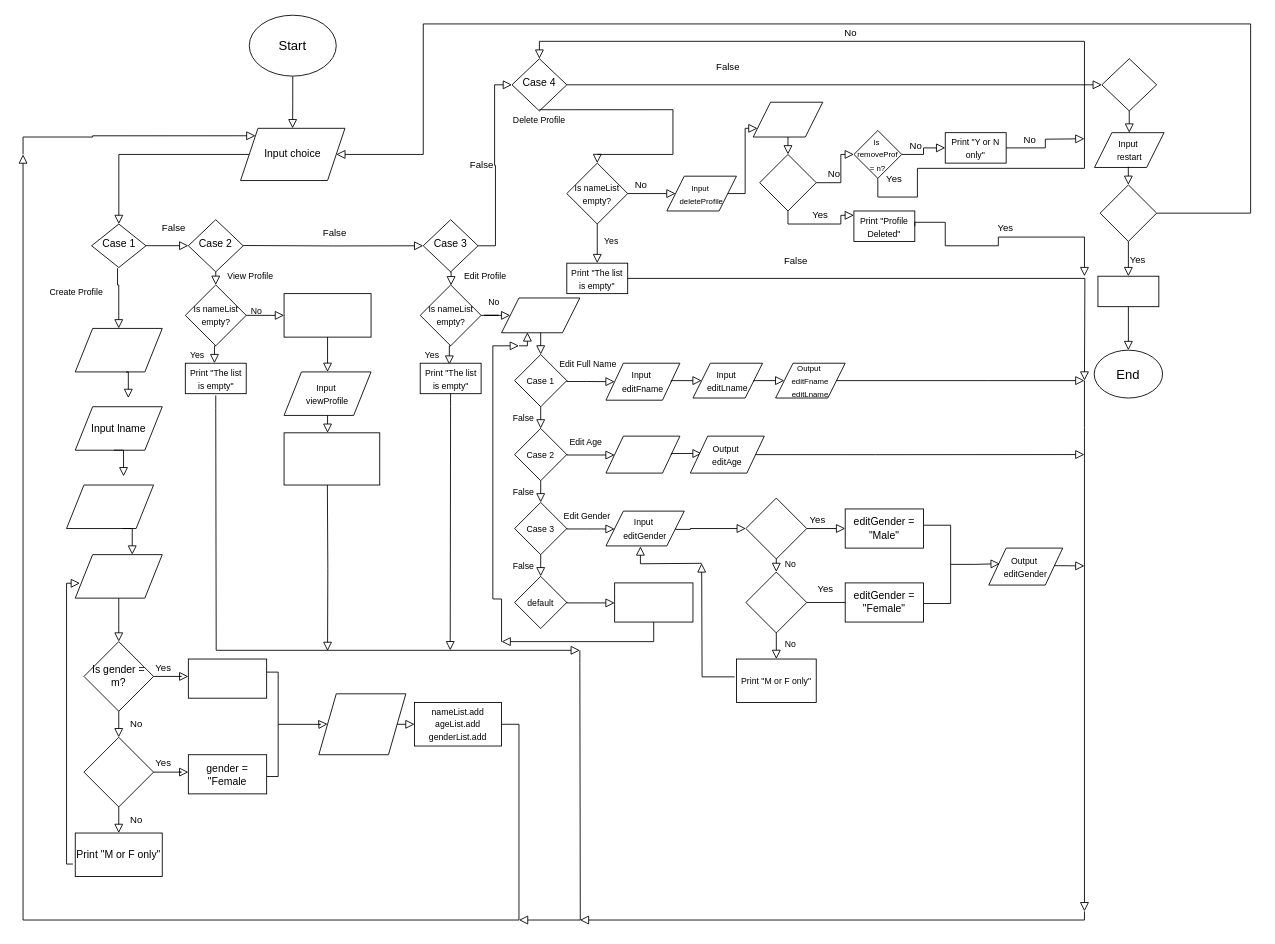
Image size: 1275x944. Some labels were removed from this diagram. Here are the shapes that lost their labels. From the top down, the box of each, then its label:
(1101, 58, 1157, 111): Case 5
(752, 101, 823, 137): Input removeProf
(759, 154, 816, 211): Is removeProf = y?
(1099, 184, 1157, 241): Is restart = y?
(1097, 275, 1159, 307): Print "Thank you!"
(283, 293, 371, 337): Display nameList
(501, 297, 580, 333): Input editChoice
(74, 328, 162, 372): Input fname
(283, 432, 380, 485): Display Full Name Age Gender
(605, 435, 680, 473): Input editAge
(66, 484, 154, 529): Input age
(745, 497, 807, 559): Is editGender = "M"?
(74, 554, 162, 598): Input gender
(614, 582, 693, 622): Print "1 - 3 only"
(745, 571, 807, 633): Is editGender = "F"?
(187, 658, 267, 698): gender = "Male"
(318, 693, 406, 755): Output fname lname age gender
(83, 736, 154, 807): Is gender = f?
